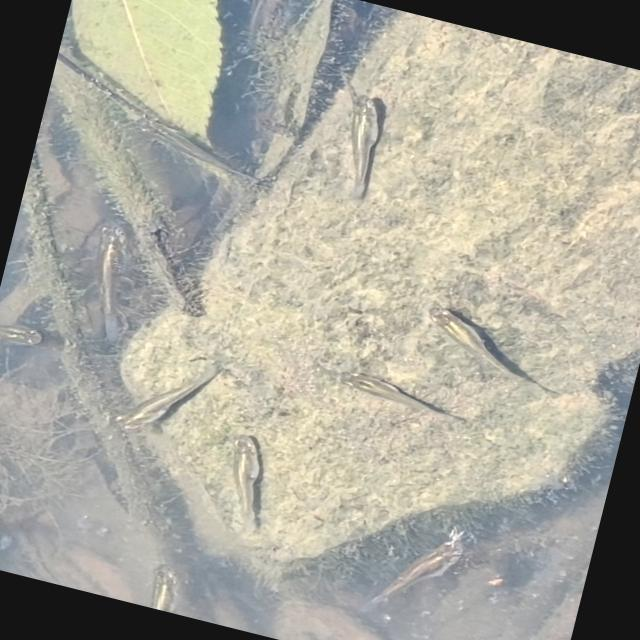Sivrisinek Baligi: (328, 493, 481, 634), (408, 296, 562, 396), (106, 335, 234, 453), (58, 205, 150, 346), (318, 86, 398, 208), (328, 363, 467, 431), (207, 429, 280, 538), (137, 559, 193, 615)
